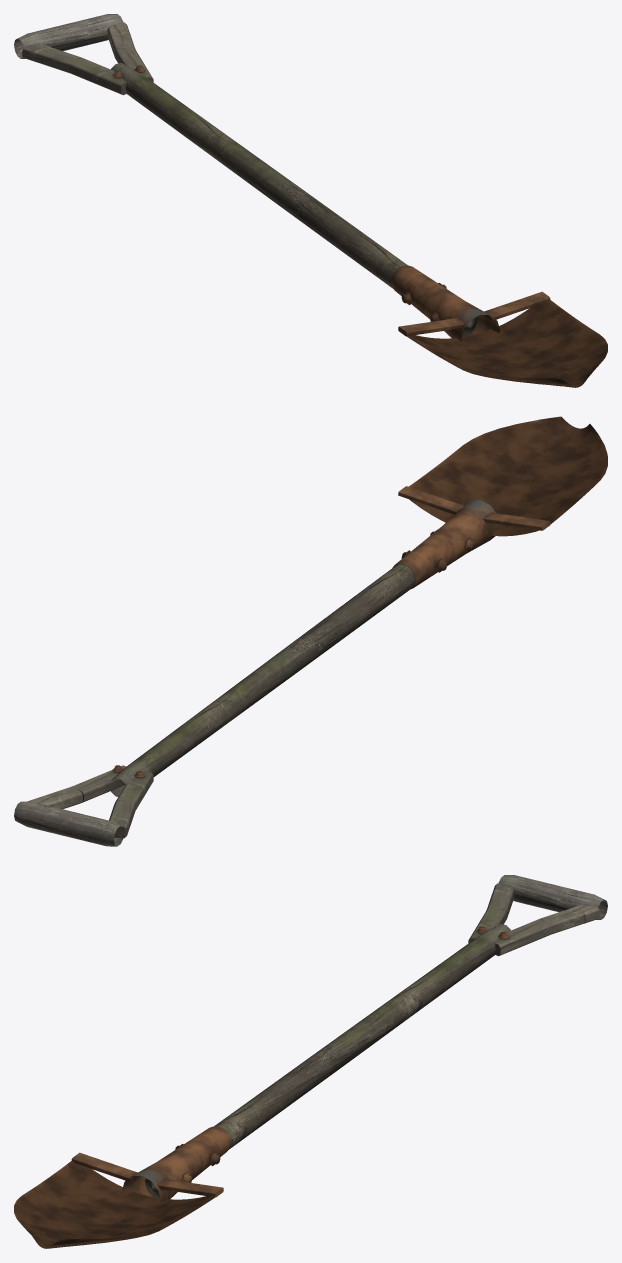
The model's file is shovel.glb.
The picture shows the model from 3 angles, top to bottom: view 1: azimuth 30°, elevation 25°; view 2: azimuth 150°, elevation 25°; view 3: azimuth 330°, elevation 25°; orthographic projection.
Visible parts, largest first — view 1: shovel; view 2: shovel; view 3: shovel.
Part boxes in pixels (<box>): shovel: <box>14,14,607,387</box>; shovel: <box>14,416,607,846</box>; shovel: <box>14,875,607,1248</box>.
Bounding box in the file's own units: 0.2367 × 0.0804 × 1.46.
1 material, 1 textured.
